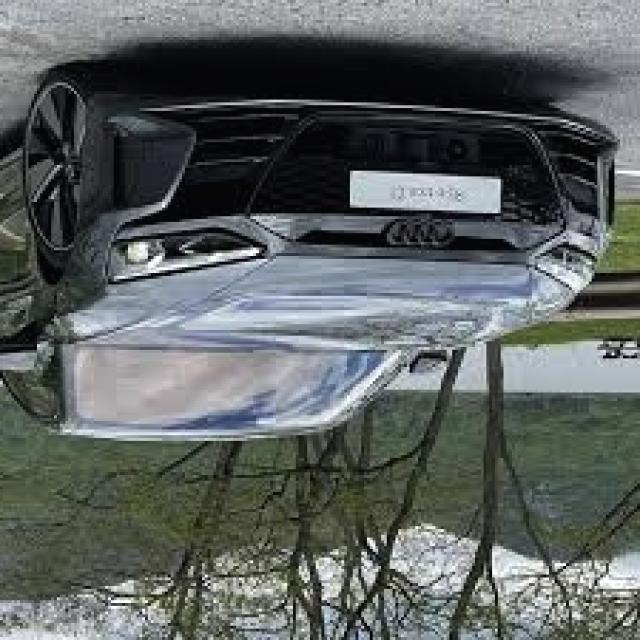black: (0, 71, 617, 451)
